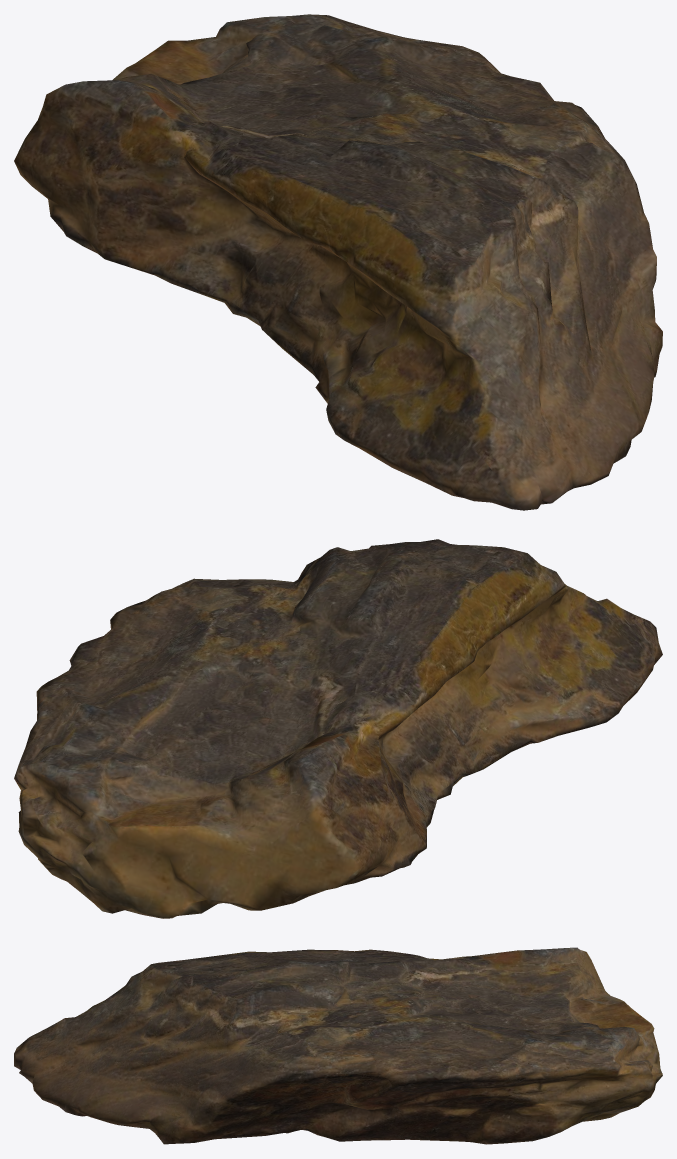
3 renders of one model, top to bottom at view 1: azimuth 30°, elevation 25°; view 2: azimuth 150°, elevation 25°; view 3: azimuth 270°, elevation 25°, orthographic. The views are drawn at different scales.
Visible parts, largest first — view 1: rock_09_LOD0; view 2: rock_09_LOD0; view 3: rock_09_LOD0.
Boxes of the visible parts, x1,y1,x2,y2 form: rock_09_LOD0: (14, 14, 662, 510); rock_09_LOD0: (14, 539, 662, 918); rock_09_LOD0: (14, 947, 662, 1144).
Size of the model in its own units: 0.0739 by 0.0328 by 0.1446.
1 material, 1 textured.
